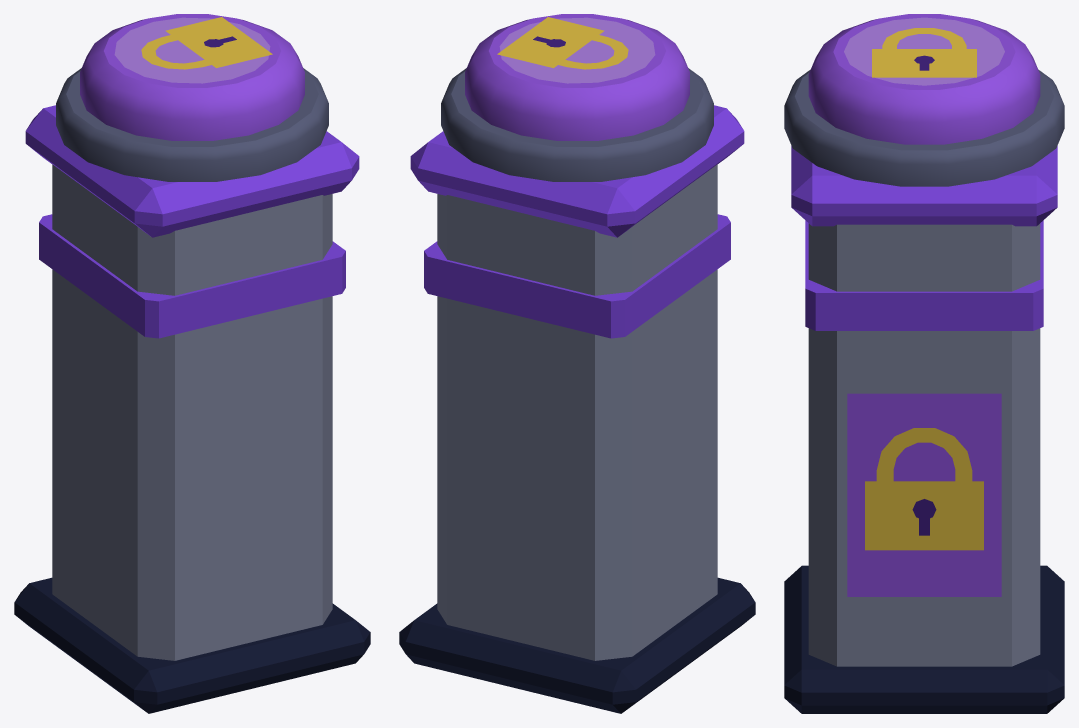
The model's file is space-lockbtn.glb.
3 views of the same model, side by side, from view 1: azimuth 30°, elevation 25°; view 2: azimuth 150°, elevation 25°; view 3: azimuth 270°, elevation 25° (orthographic). The views are drawn at different scales.
Parts seen in each view (by area): view 1: space-lockbtn; view 2: space-lockbtn; view 3: space-lockbtn.
Part boxes in pixels (x1=…): space-lockbtn: x1=14, y1=14, x2=370, y2=713; space-lockbtn: x1=399, y1=14, x2=755, y2=713; space-lockbtn: x1=784, y1=14, x2=1064, y2=713.
Size of the model in its own units: 0.4 by 0.964 by 0.4.
